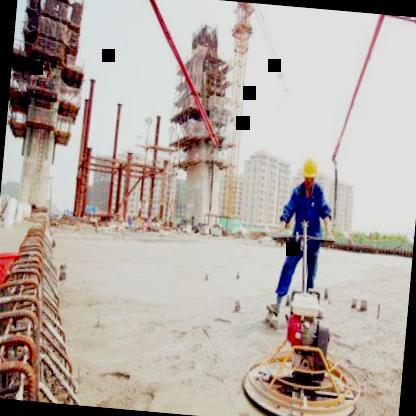helmet: (298, 155, 322, 192)
